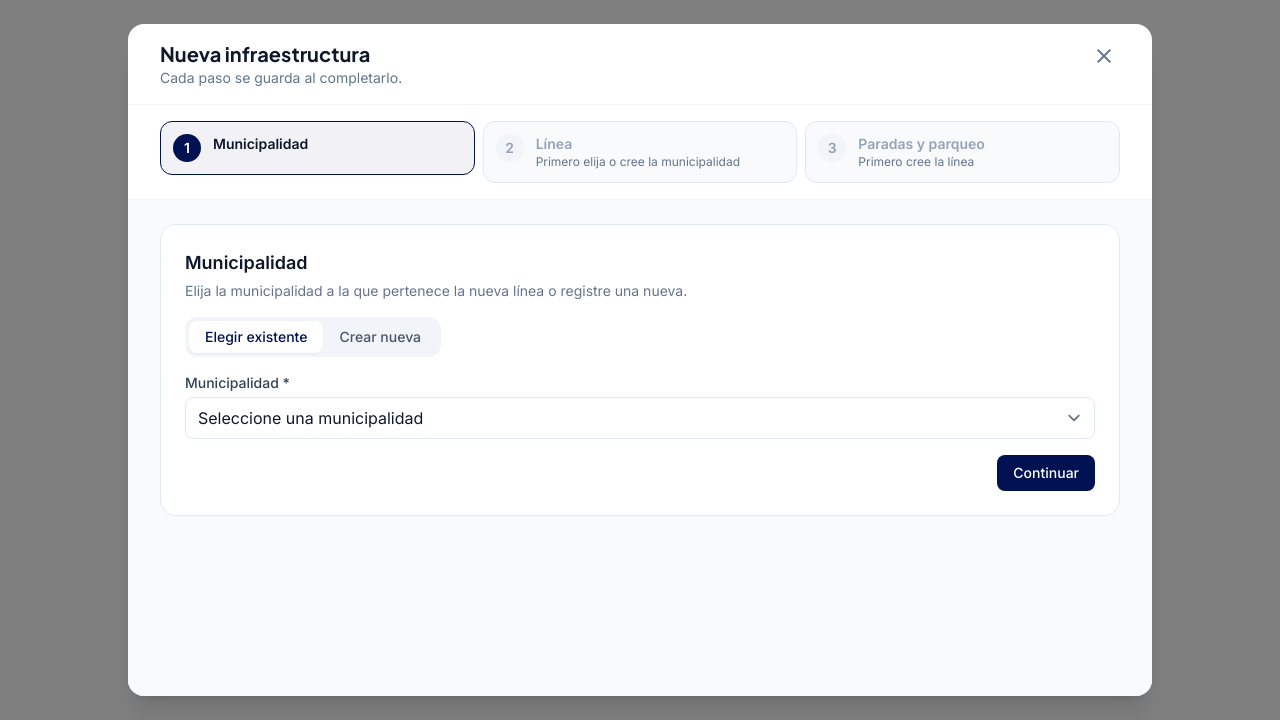
it: InfrastructureWizard stepper › unlocks step 2 after step 1 and shows the municipalidad summary; step 3 stays locked
The image size is (1280, 720).
Select "Mixco (Guatemala)" in the dropdown labelled "Municipalidad *" at [640, 418], box x1=185 y1=397 x2=1095 y2=439
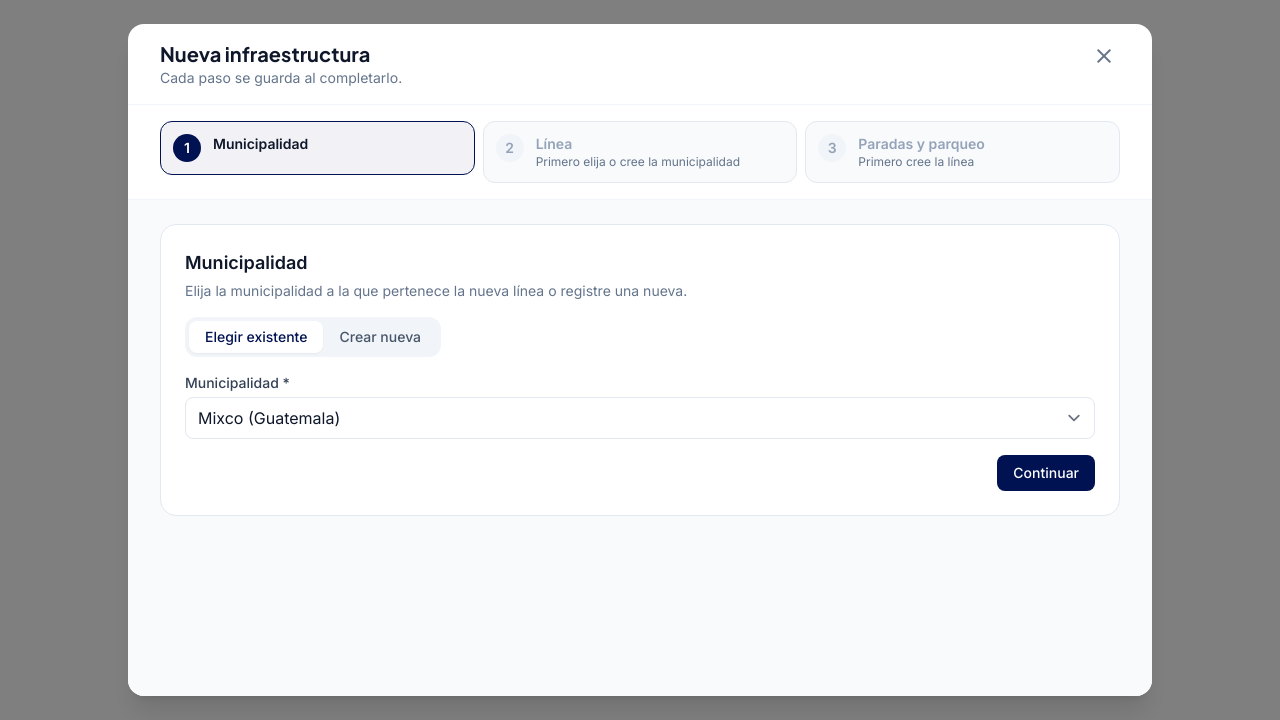
Click the button "Continuar" at [1046, 473], box x1=997 y1=455 x2=1095 y2=491
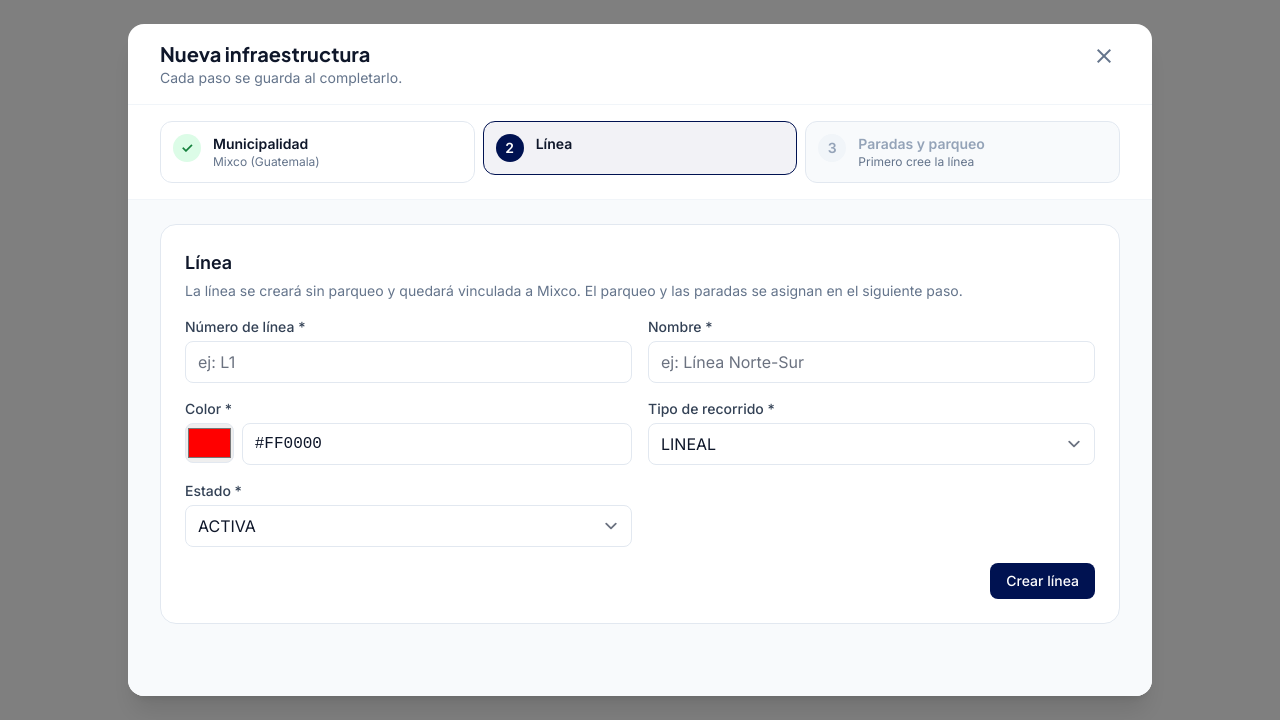
Check: the button "Crear línea" is shown, box x1=990 y1=563 x2=1095 y2=599
